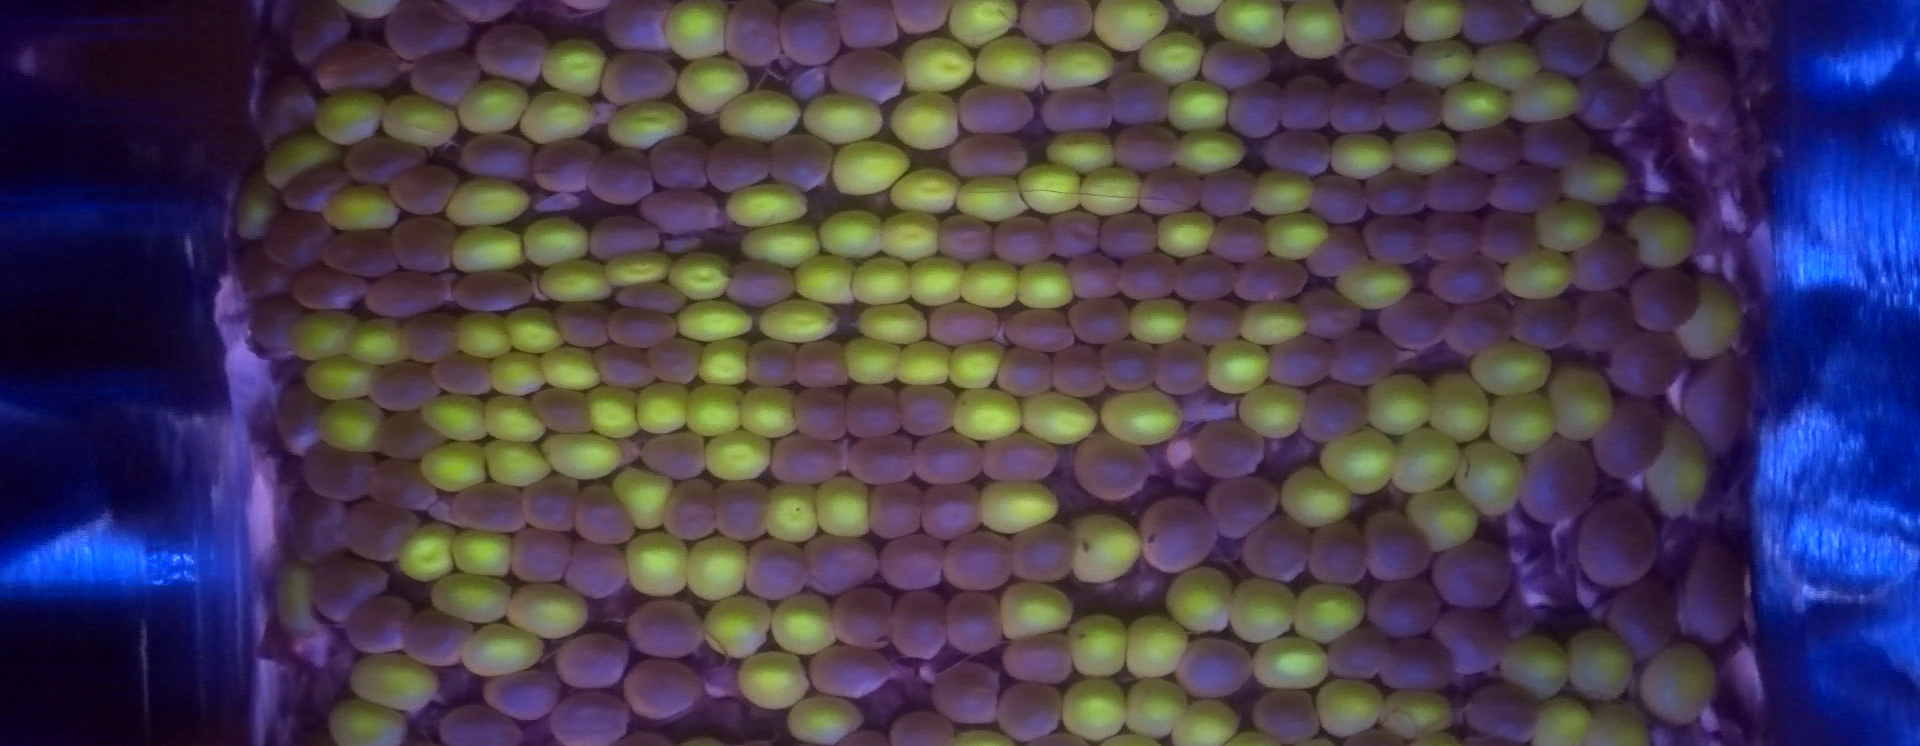fluorescent: (1676, 274, 1747, 360), (1638, 644, 1713, 723), (1652, 420, 1706, 521), (1229, 581, 1307, 646), (1069, 514, 1140, 584), (350, 655, 436, 713), (1456, 442, 1520, 518), (1322, 430, 1395, 496), (1469, 341, 1550, 398), (1551, 365, 1611, 441), (1098, 392, 1187, 443), (705, 592, 771, 659), (1166, 566, 1232, 633), (1386, 428, 1456, 491), (442, 176, 528, 228), (1123, 617, 1189, 684), (1367, 372, 1434, 437), (768, 594, 836, 658), (1500, 635, 1569, 698), (829, 138, 910, 192), (1280, 465, 1352, 526), (719, 92, 801, 145), (736, 650, 809, 709), (678, 54, 744, 119), (1605, 21, 1673, 85), (459, 626, 544, 676), (624, 533, 691, 597), (507, 584, 587, 637), (1091, 1, 1168, 55), (520, 89, 594, 146), (972, 34, 1046, 91), (661, 4, 736, 59), (1430, 369, 1485, 443), (890, 92, 959, 152), (384, 96, 460, 149), (307, 88, 384, 141), (1485, 392, 1550, 454), (1629, 208, 1693, 271), (981, 481, 1059, 533), (1566, 631, 1624, 701), (902, 36, 973, 92), (604, 102, 684, 151), (1408, 488, 1476, 546), (1291, 584, 1359, 642), (1254, 639, 1333, 688), (1060, 677, 1127, 736), (1236, 385, 1307, 439), (320, 187, 402, 234), (433, 575, 516, 621), (729, 183, 811, 229), (544, 40, 609, 99), (949, 390, 1021, 442), (1000, 586, 1073, 638), (1336, 262, 1416, 310), (418, 442, 491, 494), (459, 76, 524, 134), (1507, 245, 1572, 303), (542, 436, 624, 481), (790, 699, 869, 746), (615, 463, 667, 533), (299, 356, 381, 401), (1025, 391, 1093, 443), (1123, 675, 1180, 737), (396, 527, 459, 583), (1442, 85, 1513, 135), (538, 256, 606, 307), (691, 540, 749, 600), (813, 479, 869, 541), (1322, 680, 1385, 736), (754, 298, 836, 341), (264, 138, 338, 186), (1538, 198, 1602, 254), (1172, 695, 1242, 745), (516, 216, 587, 265), (449, 227, 524, 273), (802, 96, 883, 138), (1286, 1, 1344, 60), (1070, 616, 1127, 677), (702, 432, 771, 481), (793, 252, 857, 305), (767, 483, 819, 545), (326, 706, 407, 746), (1406, 38, 1476, 85), (958, 174, 1027, 220), (1044, 42, 1111, 91), (1386, 127, 1453, 175), (819, 209, 884, 258), (1559, 152, 1624, 201), (1510, 75, 1580, 120), (741, 386, 801, 439), (1327, 129, 1393, 176), (1014, 258, 1076, 309), (317, 403, 384, 450), (1079, 167, 1142, 216), (673, 300, 751, 341), (418, 398, 492, 440), (287, 315, 351, 363), (484, 440, 549, 488), (846, 258, 911, 306), (959, 256, 1018, 309), (891, 168, 958, 214), (1164, 83, 1226, 134), (742, 227, 822, 265), (482, 393, 542, 443), (1136, 36, 1198, 85), (1216, 2, 1283, 47), (1022, 163, 1079, 216), (1128, 296, 1185, 348), (949, 1, 1018, 44), (876, 217, 937, 265), (1267, 209, 1324, 261), (1474, 44, 1542, 87), (1534, 698, 1594, 746), (1386, 688, 1451, 733), (1177, 130, 1245, 171), (582, 385, 637, 436), (1155, 209, 1217, 255), (1244, 299, 1307, 344), (861, 305, 931, 345), (504, 303, 562, 352), (1210, 343, 1267, 392), (905, 254, 958, 306), (844, 333, 898, 385), (452, 530, 511, 577), (233, 180, 276, 244), (691, 387, 743, 439), (673, 251, 727, 301), (634, 383, 689, 432), (541, 345, 601, 390), (458, 311, 513, 359), (1255, 170, 1311, 217), (277, 565, 312, 638), (492, 350, 544, 401), (949, 343, 1002, 392), (1051, 134, 1116, 173), (1400, 4, 1463, 42), (347, 320, 403, 363), (605, 254, 673, 287), (898, 342, 950, 385), (696, 341, 744, 385)
nonfluorescent: (1678, 533, 1749, 641), (1520, 437, 1602, 524), (1689, 352, 1750, 461), (1581, 492, 1649, 586), (1433, 540, 1517, 611), (1462, 677, 1547, 746), (309, 551, 389, 622), (1664, 37, 1725, 127), (1142, 500, 1216, 573), (800, 528, 878, 597), (1599, 397, 1663, 480), (1611, 331, 1689, 396), (1364, 512, 1433, 584), (1076, 431, 1149, 500), (1438, 604, 1505, 677), (626, 598, 708, 658), (342, 499, 415, 563), (806, 643, 890, 699), (300, 442, 378, 502), (622, 657, 700, 717), (1309, 526, 1374, 598), (313, 36, 391, 96), (1180, 637, 1253, 701), (1202, 477, 1277, 538), (268, 376, 324, 457), (1613, 581, 1669, 661), (760, 131, 831, 195), (887, 589, 949, 661), (546, 690, 624, 746), (940, 530, 1010, 593), (1010, 519, 1076, 584), (1240, 518, 1308, 582), (555, 635, 628, 692), (1304, 377, 1369, 441), (506, 522, 573, 583), (1253, 684, 1320, 745), (1534, 17, 1602, 78), (403, 609, 471, 669), (996, 682, 1067, 740), (1625, 269, 1696, 327), (322, 223, 394, 279), (479, 24, 544, 87), (1195, 419, 1262, 479), (604, 48, 672, 107), (342, 132, 421, 183), (936, 659, 997, 724), (340, 593, 408, 652), (1322, 330, 1391, 387), (280, 494, 343, 556), (1573, 73, 1637, 135), (740, 539, 804, 599), (945, 590, 1005, 655), (771, 429, 838, 488), (389, 5, 473, 51), (778, 5, 838, 69), (481, 668, 553, 720), (637, 434, 709, 486), (907, 434, 980, 486), (1369, 579, 1438, 635), (285, 2, 344, 66), (1376, 292, 1440, 350), (1237, 255, 1308, 307), (833, 586, 890, 650), (1573, 234, 1641, 289), (724, 1, 778, 70), (403, 307, 464, 367), (864, 479, 924, 540), (945, 137, 1029, 181), (588, 145, 651, 202), (846, 436, 917, 488), (451, 484, 529, 530), (454, 136, 533, 183), (984, 436, 1060, 484), (598, 9, 675, 55), (1489, 168, 1566, 214), (1014, 1, 1092, 47), (642, 189, 718, 235), (520, 474, 582, 532), (370, 356, 435, 410), (1509, 294, 1573, 348), (959, 87, 1033, 134), (1109, 71, 1168, 130), (711, 481, 771, 539), (880, 532, 940, 589), (643, 145, 711, 195), (937, 205, 992, 267), (1303, 284, 1362, 342), (1307, 223, 1365, 281), (238, 238, 289, 303), (1264, 334, 1329, 386), (266, 217, 336, 265), (1386, 642, 1453, 691), (704, 138, 771, 187), (1422, 162, 1489, 211), (560, 543, 622, 595), (829, 50, 898, 98), (366, 274, 447, 315), (437, 706, 518, 746), (572, 488, 629, 544), (393, 217, 452, 272), (291, 266, 365, 310), (527, 141, 593, 190), (411, 60, 482, 105), (591, 213, 662, 258), (1431, 256, 1509, 298), (1113, 122, 1177, 173), (1198, 39, 1266, 86), (920, 481, 977, 537), (1370, 212, 1428, 267), (1447, 303, 1509, 354), (389, 167, 452, 217), (1382, 85, 1446, 134), (1464, 1, 1533, 47), (793, 388, 850, 443), (1423, 209, 1480, 263), (931, 301, 996, 349), (247, 296, 299, 356), (662, 481, 714, 541), (1522, 119, 1588, 165), (378, 461, 441, 510), (1135, 169, 1209, 211), (376, 413, 440, 461), (1332, 628, 1386, 685), (1576, 292, 1630, 348), (1194, 167, 1250, 220), (991, 216, 1049, 267), (1041, 89, 1119, 127), (845, 383, 899, 439), (1449, 126, 1522, 167), (1284, 76, 1336, 134), (598, 344, 659, 392), (1344, 43, 1414, 85), (1053, 345, 1108, 398), (1071, 294, 1128, 345), (1265, 134, 1332, 176), (1013, 637, 1076, 682), (1176, 256, 1237, 303), (1155, 341, 1209, 393), (730, 262, 792, 307), (793, 341, 850, 391), (1117, 254, 1180, 298), (538, 387, 591, 439), (556, 299, 606, 354), (1224, 88, 1280, 138), (280, 167, 339, 213), (998, 345, 1053, 394), (834, 2, 896, 45), (609, 307, 675, 348), (1326, 89, 1386, 134), (1204, 216, 1264, 258), (1069, 247, 1119, 298), (1007, 311, 1075, 348), (1102, 345, 1158, 390), (617, 281, 687, 316), (651, 338, 703, 386), (901, 383, 955, 429), (746, 339, 795, 388), (1342, 2, 1401, 43), (889, 709, 953, 746), (1309, 176, 1360, 222), (435, 352, 484, 397), (1369, 173, 1420, 216), (1482, 217, 1531, 261), (1180, 303, 1237, 341), (1047, 218, 1102, 256)
